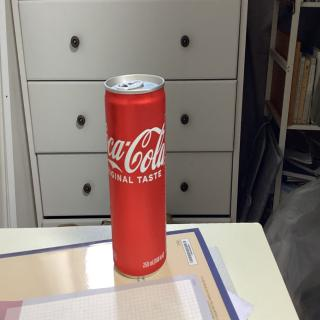cocacola: (100, 72, 175, 281)
